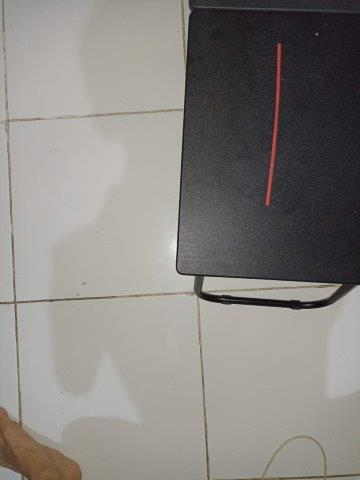sedotan: (265, 44, 282, 205)
